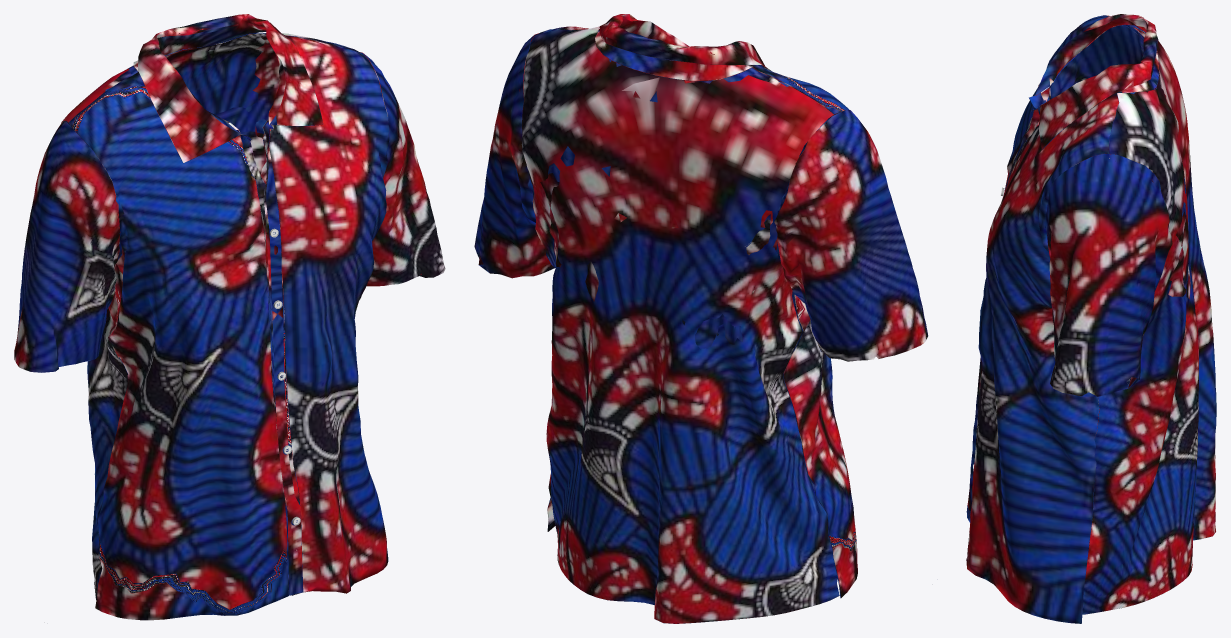
The model's file is female_shirt_extra_short.glb.
The picture shows the model from 3 angles, left to right: view 1: azimuth 30°, elevation 25°; view 2: azimuth 150°, elevation 25°; view 3: azimuth 270°, elevation 25°; orthographic projection. The views are drawn at different scales.
Visible parts, largest first — view 1: all; view 2: all; view 3: all.
Part boxes in pixels (x1,y1,x2,y2): all: (14, 14, 445, 620); all: (474, 14, 928, 623); all: (966, 14, 1216, 623).
Size of the model in its own units: 0.5578 by 0.6728 by 0.2945.
1 material, 1 textured.
